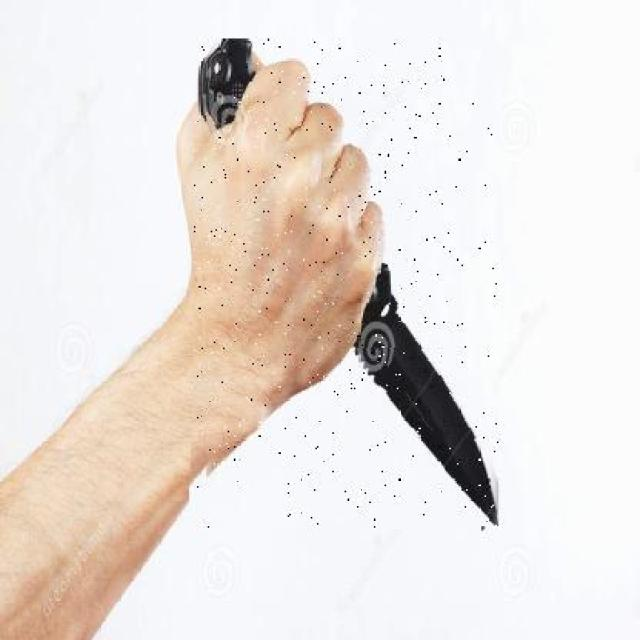knife: (194, 39, 498, 528)
